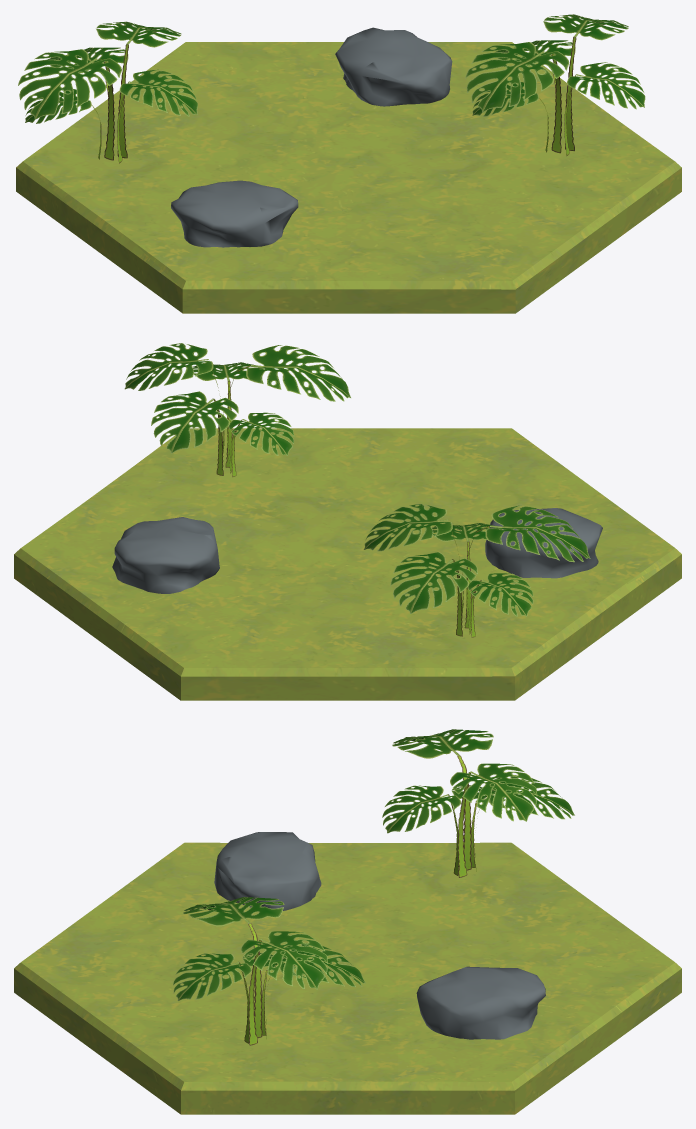
Rendered from HexTile0.fbx.
The picture shows the model from 3 angles, top to bottom: view 1: azimuth 30°, elevation 25°; view 2: azimuth 150°, elevation 25°; view 3: azimuth 270°, elevation 25°; orthographic projection.
Visible parts, largest first — view 1: Terrain_01.018, monsteraPlant.003, rock2.006; view 2: Terrain_01.018, monsteraPlant.003, rock2.006; view 3: Terrain_01.018, monsteraPlant.003, rock2.006.
Boxes of the visible parts, x1=… form: Terrain_01.018: x1=16, y1=42, x2=681, y2=313; monsteraPlant.003: x1=18, y1=14, x2=645, y2=163; rock2.006: x1=171, y1=27, x2=452, y2=247; Terrain_01.018: x1=14, y1=428, x2=681, y2=700; monsteraPlant.003: x1=124, y1=343, x2=590, y2=637; rock2.006: x1=112, y1=508, x2=602, y2=593; Terrain_01.018: x1=14, y1=842, x2=681, y2=1114; monsteraPlant.003: x1=173, y1=729, x2=574, y2=1045; rock2.006: x1=214, y1=832, x2=545, y2=1039.
Size of the model in its own units: 1840 by 488 by 2000.
